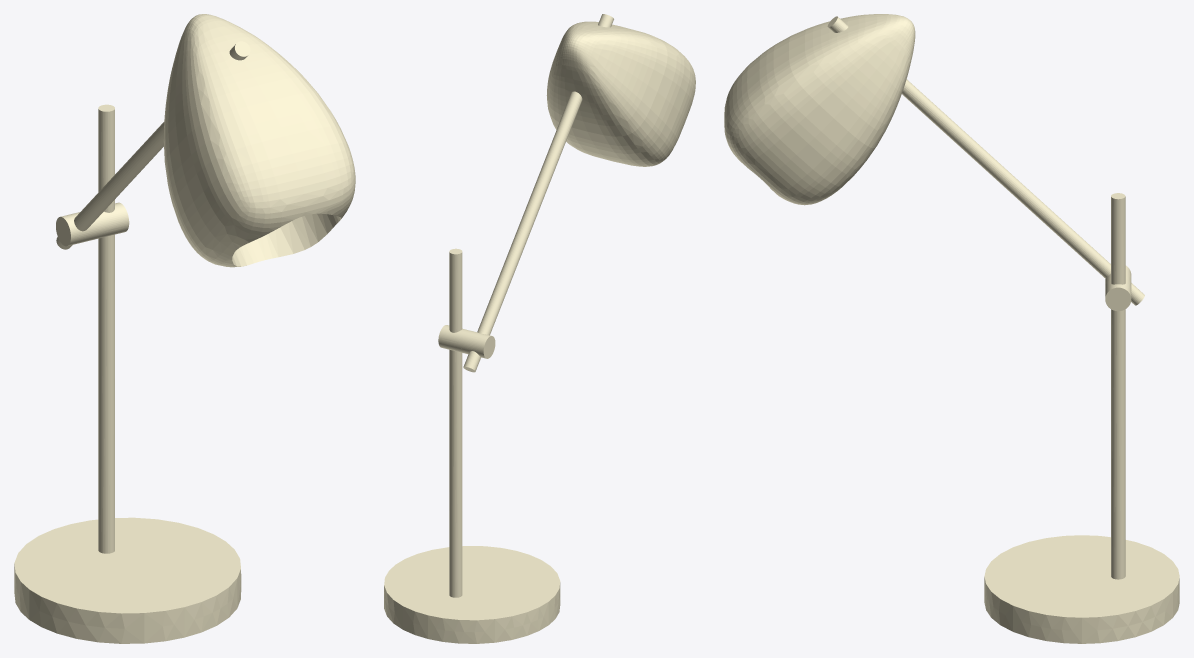
3 views of the same model, side by side, from view 1: azimuth 30°, elevation 25°; view 2: azimuth 150°, elevation 25°; view 3: azimuth 270°, elevation 25° (orthographic). The views are drawn at different scales.
Bounding box in the file's own units: 109 × 348 × 251.
